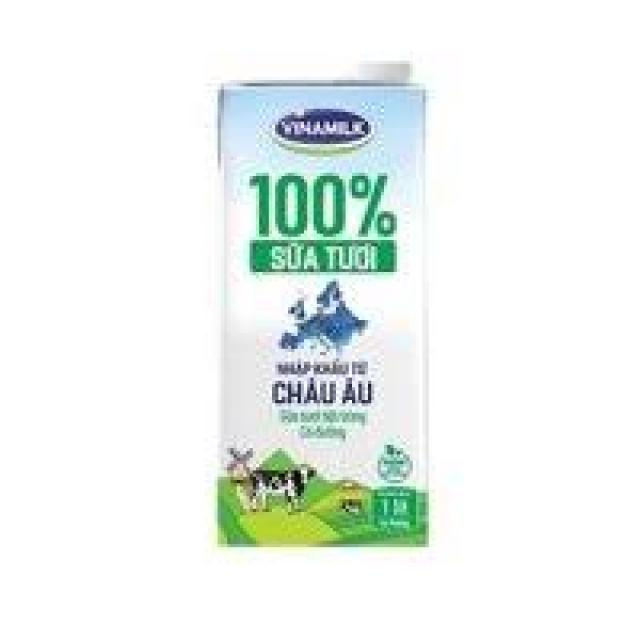non_white_jug: (194, 25, 461, 546)
